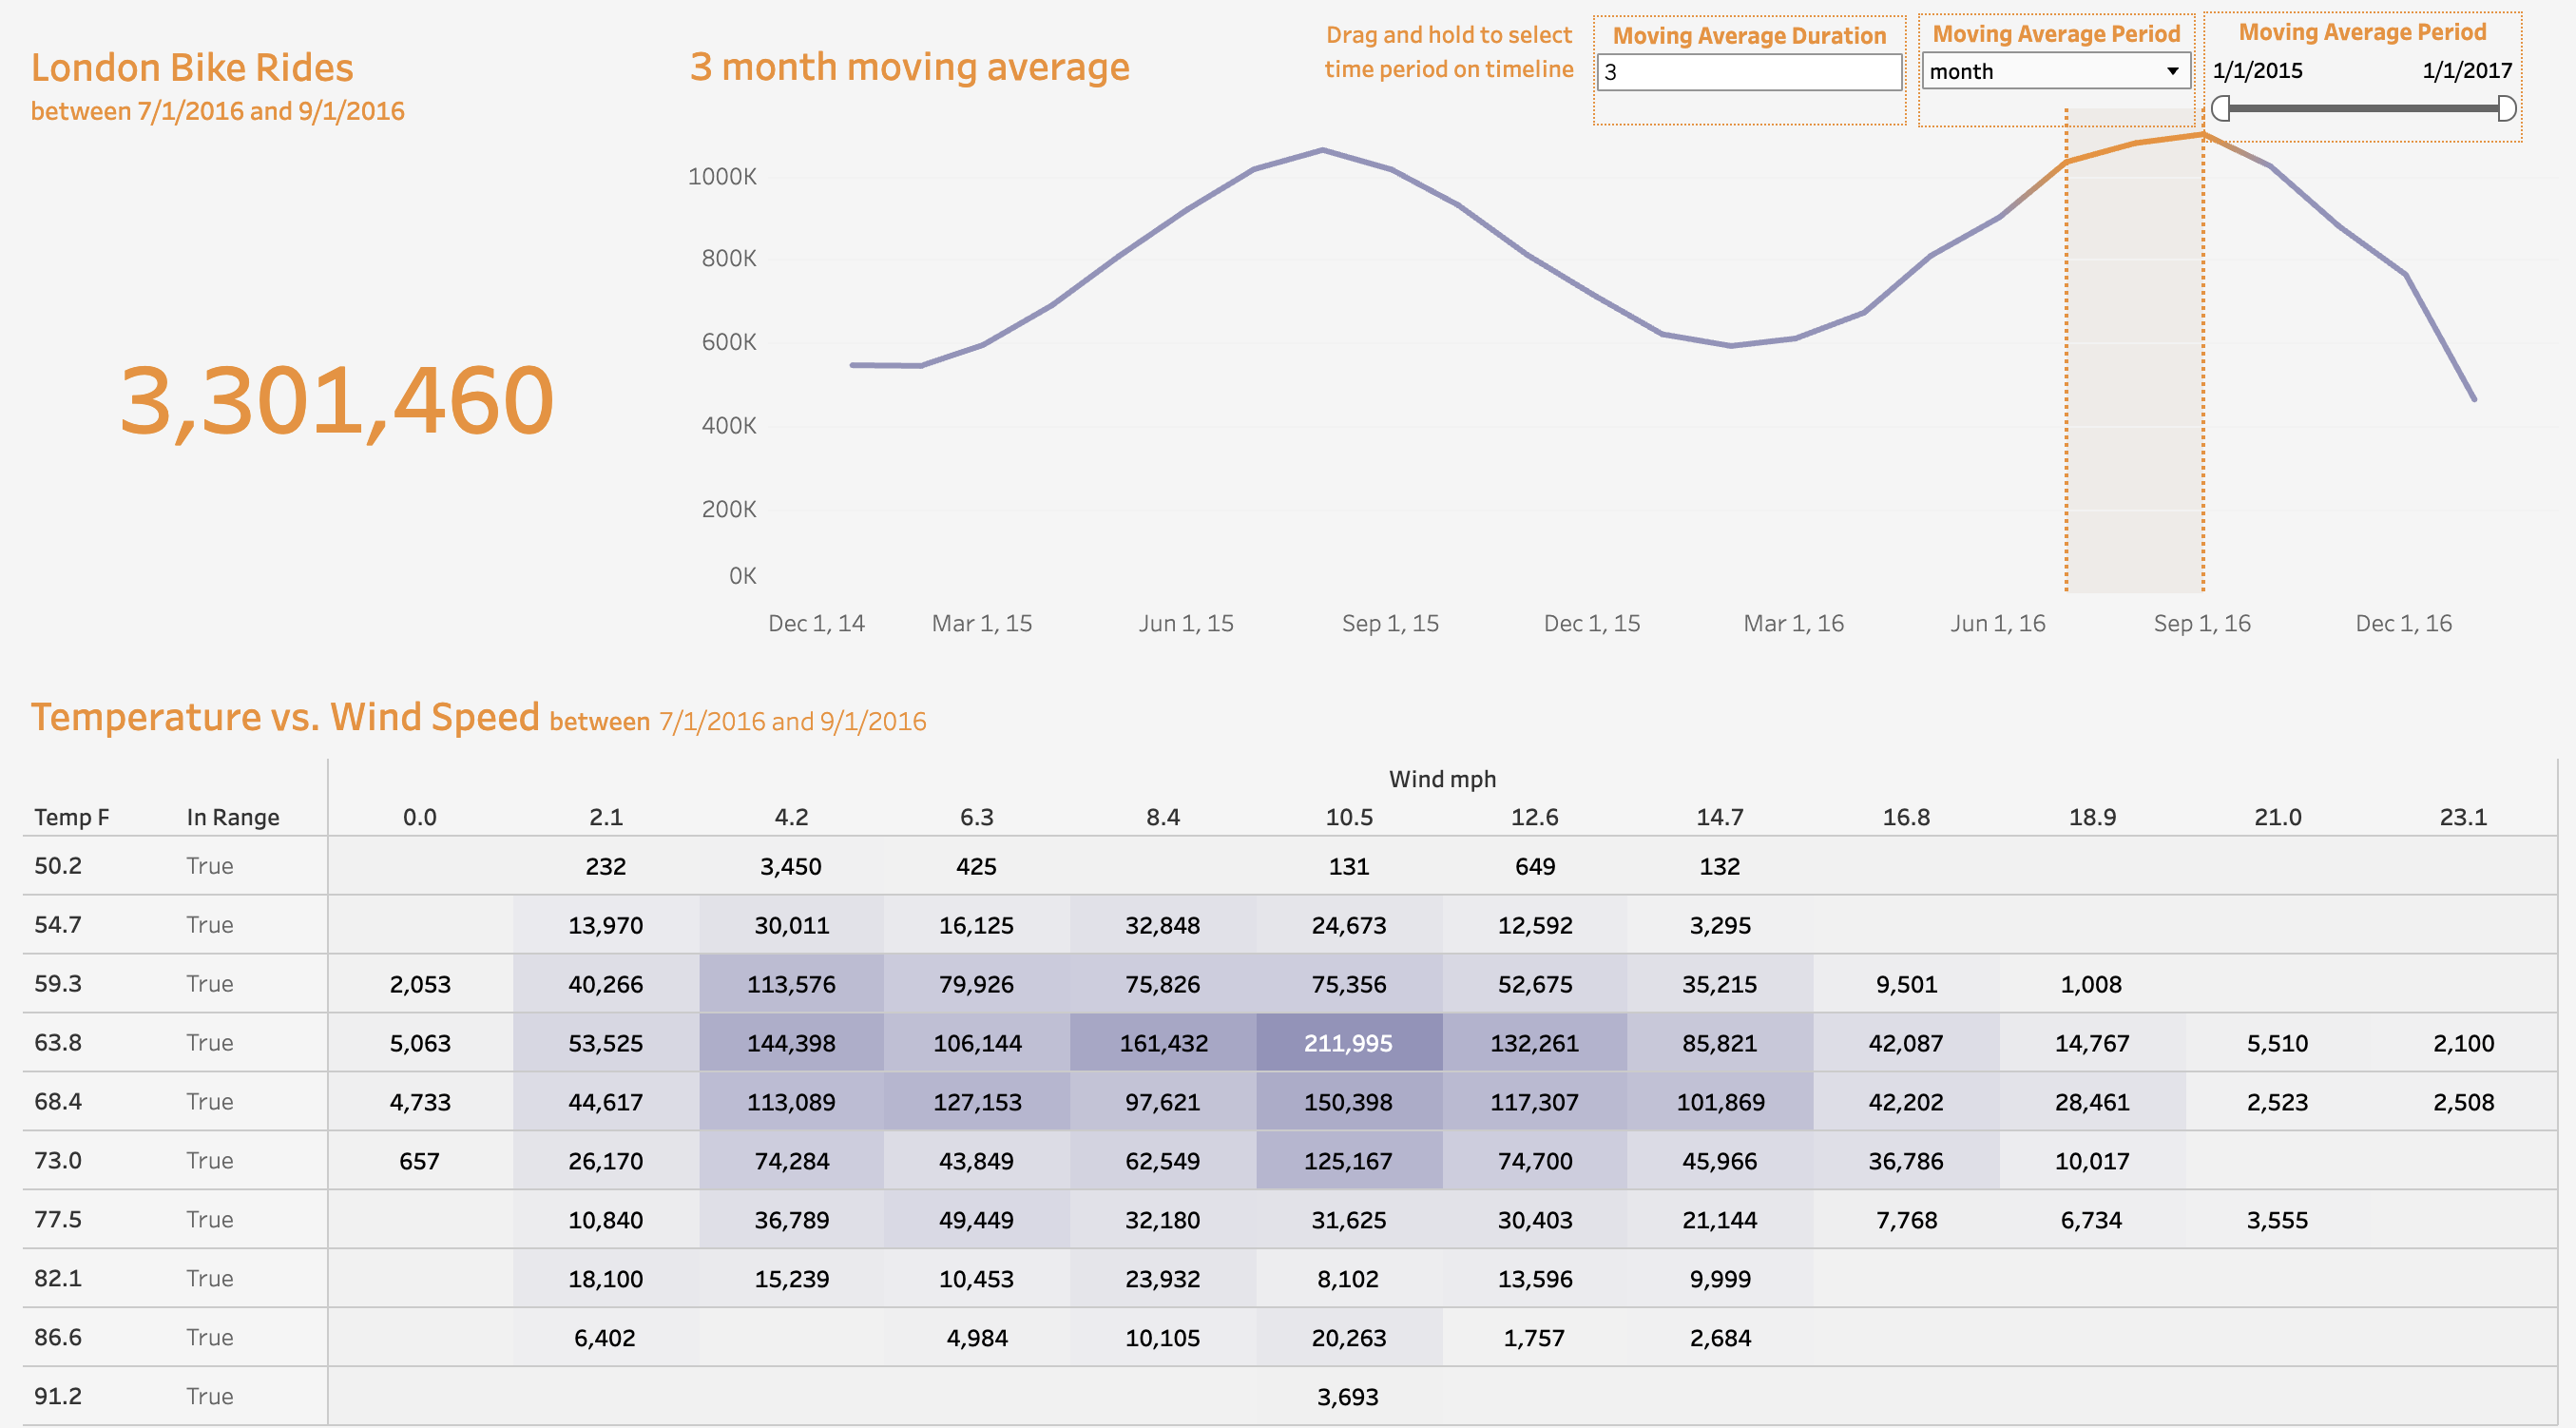

What the dashboard file says about the page in this screenshot:
{"tool":"tableau","page":{"name":"Dashboard 1","canvas":[1366,768],"ordinal":0},"visuals":[{"type":"worksheet","title":"Total Rides","mark":"Automatic","box":[8,8,347,342]},{"type":"worksheet","title":"Moving Average","mark":"Automatic","rows":["Calculation1"],"cols":["Calculation_1978135778309062910"],"box":[355,8,1003,342]},{"type":"filter","title":"Moving Average","param":"[federated.0avsaw60zhjwop0zj335o1ggv863].[none:Calculation_1978135778309062910:q","box":[1163,8,168,69]},{"type":"parameter","param":"[Parameters].[Parameter 1]","box":[1013,9,146,60]},{"type":"parameter","param":"[Parameters].[Parameter 2]","box":[842,10,165,58]},{"type":"text","box":[698,11,137,34]},{"type":"worksheet","title":"Heatmap","mark":"Square","rows":["temp real F (bin)","Calculation_1978135778314551555"],"cols":["Wind Speed Mph (bin)"],"box":[8,350,1350,410]}]}

Visuals, with their boxes in screenshot pixels (x1, y1, x2, y2), scaled from the page's 1366x768 canvas onto the 2576x1428 screenshot:
"Total Rides" worksheet: Rect(15, 15, 669, 651)
"Moving Average" worksheet: Rect(669, 15, 2561, 651)
"Moving Average" filter: Rect(2193, 15, 2510, 144)
parameter: Rect(1911, 17, 2185, 128)
parameter: Rect(1587, 19, 1899, 126)
text: Rect(1317, 21, 1575, 84)
"Heatmap" worksheet (Square marks): Rect(15, 651, 2561, 1413)
